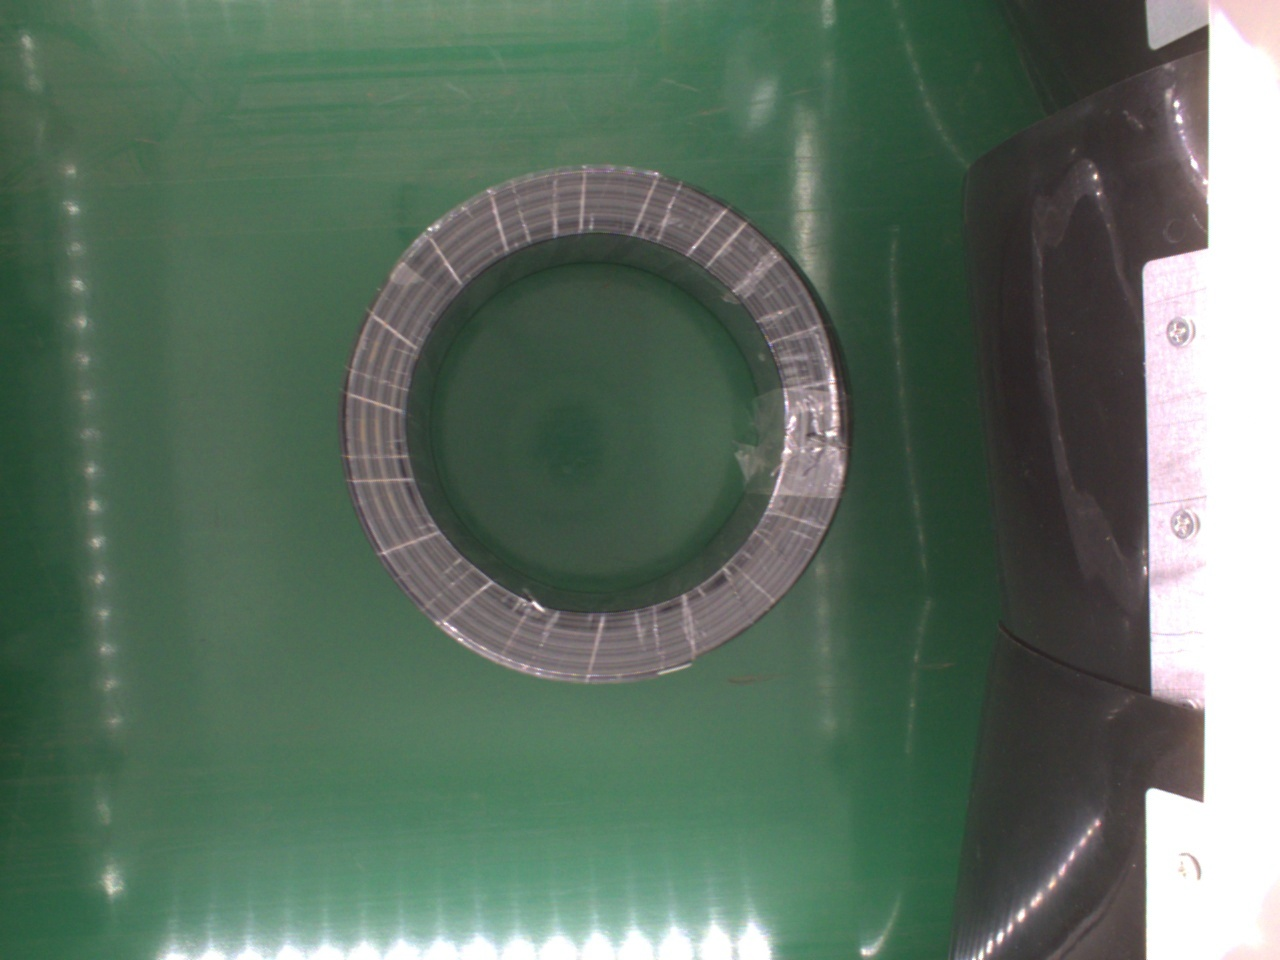black: (342, 167, 849, 680)
